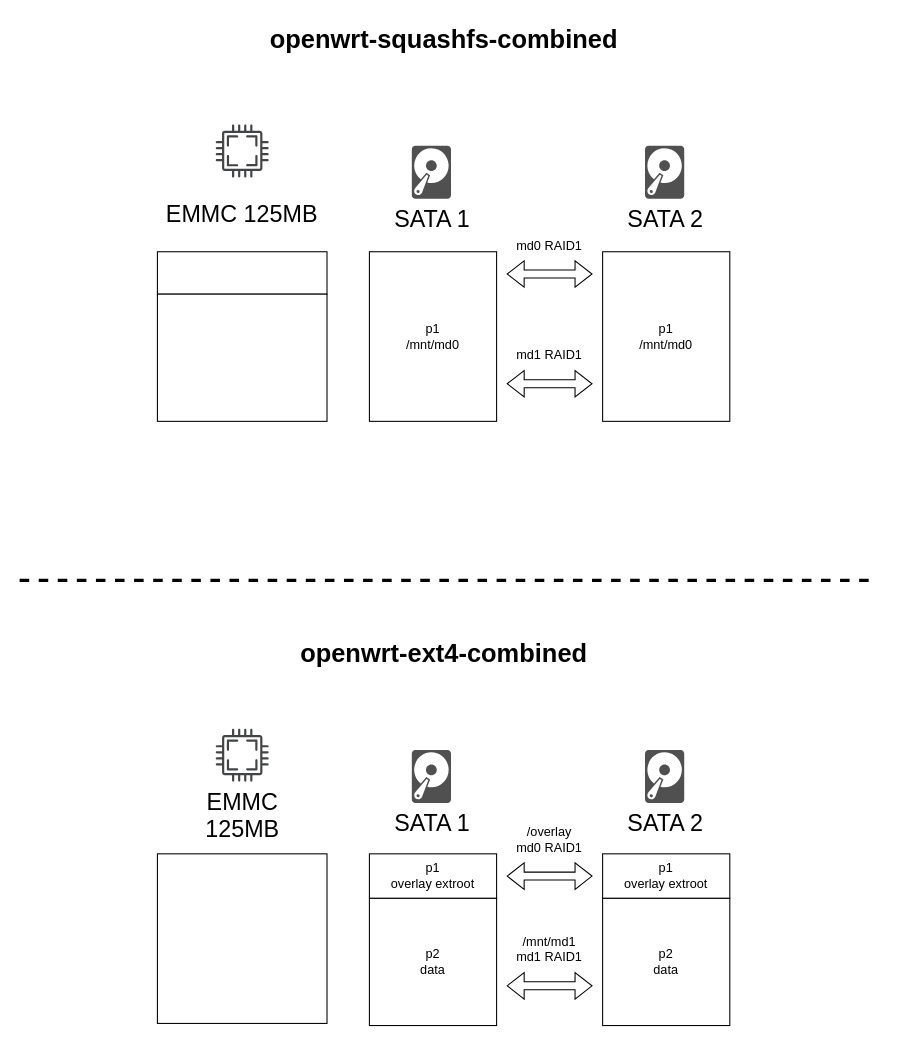
Image size: 899x1044. Some labels were removed from this diagram. The shapes that lost their labels are listed below. From the top down, each one's centre as x and y in pixels, then its label:
At [241,272]: "/boot 16MB read-only squashfs".
At [241,357]: "/ rootfs 109MB ext4".
At [241,938]: "/boot / rootfs 125MB ext4".
